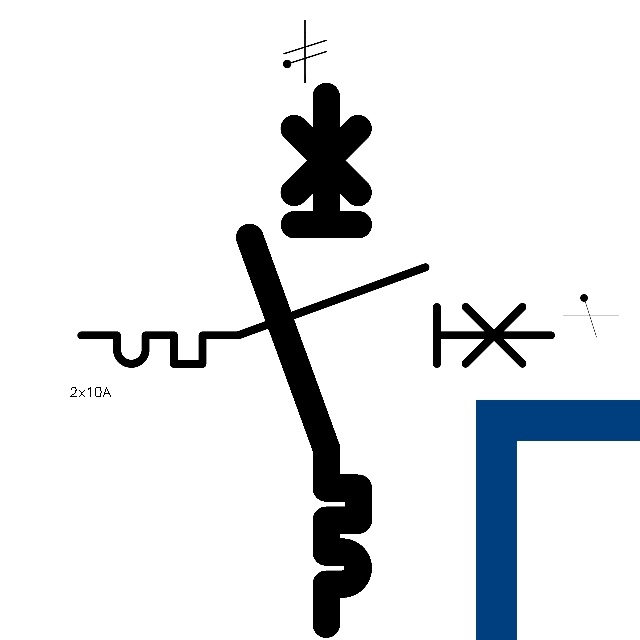interruptor_termomagnetico: (236, 82, 372, 638), (69, 255, 563, 376)
